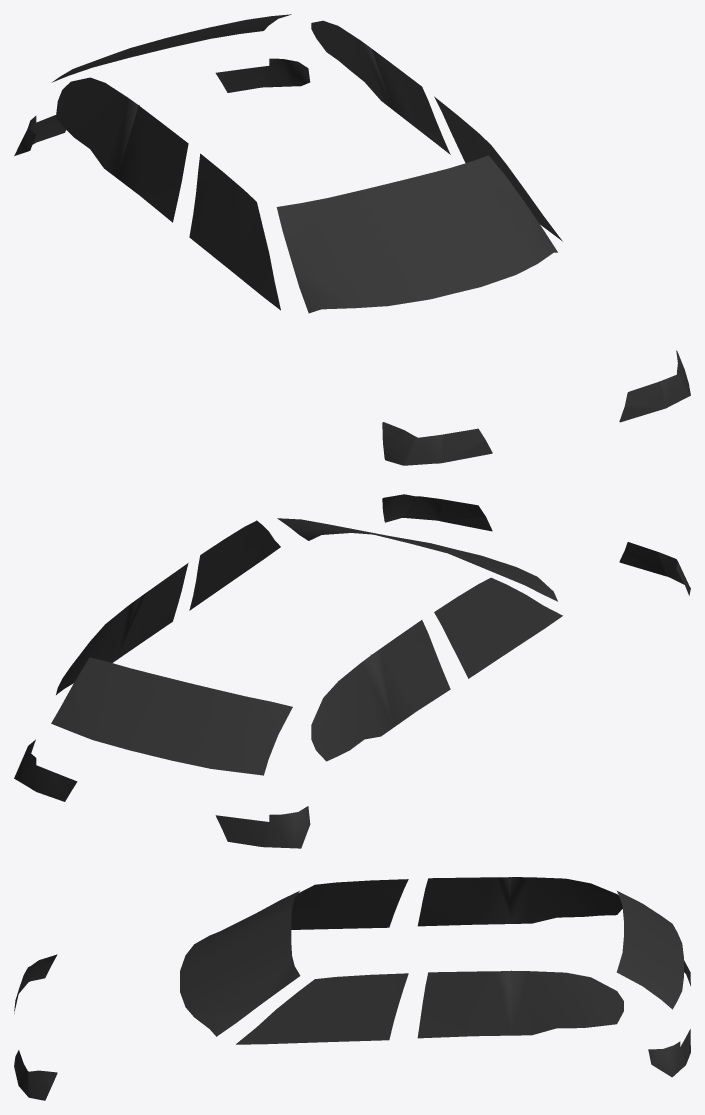
The model's file is LK4_glass.obj.
3 views of the same model, one above another, from view 1: azimuth 30°, elevation 25°; view 2: azimuth 150°, elevation 25°; view 3: azimuth 270°, elevation 25° (orthographic). The views are drawn at different scales.
Parts seen in each view (by area): view 1: LK4_body.005_LK4_body.005, LK4_body.003_LK4_body.003, LK4_body.004_LK4_body.004, LK4_body.001_LK4_body.001, LK4_body.010_LK4_body.010, LK4_body.002_LK4_body.002, LK4_body.006_LK4_body.006, LK4_body.007_LK4_body.007, LK4_body.009_LK4_body.009, LK4_body.008_LK4_body.008; view 2: LK4_body.002_LK4_body.002, LK4_body.003_LK4_body.003, LK4_body.004_LK4_body.004, LK4_body.001_LK4_body.001, LK4_body.006_LK4_body.006, LK4_body.008_LK4_body.008, LK4_body.005_LK4_body.005, LK4_body.009_LK4_body.009, LK4_body.007_LK4_body.007, LK4_body.010_LK4_body.010; view 3: LK4_body.001_LK4_body.001, LK4_body.005_LK4_body.005, LK4_body.003_LK4_body.003, LK4_body.006_LK4_body.006, LK4_body.002_LK4_body.002, LK4_body.004_LK4_body.004, LK4_body.009_LK4_body.009, LK4_body.007_LK4_body.007, LK4_body.010_LK4_body.010.
Part boxes in pixels (x1,y1,x2,y2): LK4_body.005_LK4_body.005: [276, 155, 557, 313]; LK4_body.003_LK4_body.003: [55, 77, 188, 222]; LK4_body.004_LK4_body.004: [189, 153, 280, 310]; LK4_body.001_LK4_body.001: [311, 20, 450, 154]; LK4_body.010_LK4_body.010: [382, 422, 492, 465]; LK4_body.002_LK4_body.002: [52, 14, 291, 82]; LK4_body.006_LK4_body.006: [434, 96, 562, 241]; LK4_body.007_LK4_body.007: [215, 58, 310, 92]; LK4_body.009_LK4_body.009: [619, 350, 690, 422]; LK4_body.008_LK4_body.008: [14, 115, 65, 155]; LK4_body.002_LK4_body.002: [51, 657, 292, 775]; LK4_body.003_LK4_body.003: [311, 620, 450, 761]; LK4_body.004_LK4_body.004: [434, 577, 562, 678]; LK4_body.001_LK4_body.001: [56, 563, 188, 694]; LK4_body.006_LK4_body.006: [189, 520, 280, 610]; LK4_body.008_LK4_body.008: [215, 806, 310, 848]; LK4_body.005_LK4_body.005: [277, 518, 557, 601]; LK4_body.009_LK4_body.009: [382, 494, 492, 531]; LK4_body.007_LK4_body.007: [14, 739, 77, 801]; LK4_body.010_LK4_body.010: [619, 542, 690, 595]; LK4_body.001_LK4_body.001: [417, 970, 623, 1038]; LK4_body.005_LK4_body.005: [180, 891, 300, 1036]; LK4_body.003_LK4_body.003: [417, 877, 622, 926]; LK4_body.006_LK4_body.006: [236, 973, 408, 1044]; LK4_body.002_LK4_body.002: [616, 891, 683, 1009]; LK4_body.004_LK4_body.004: [291, 879, 408, 929]; LK4_body.009_LK4_body.009: [14, 1050, 57, 1100]; LK4_body.007_LK4_body.007: [648, 1029, 690, 1077]; LK4_body.010_LK4_body.010: [14, 954, 57, 1013].
Size of the model in its own units: 1.76 by 0.7798 by 4.11.
Materials: 1 (1 with a texture image).
